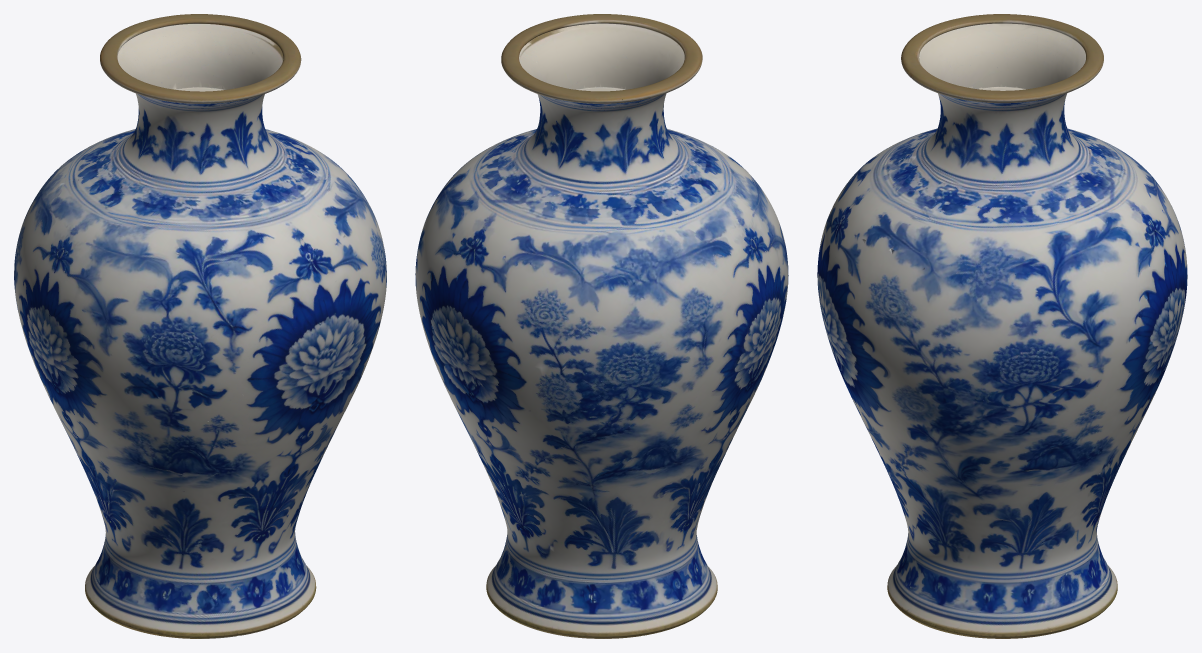
The model's file is hero.glb.
The picture shows the model from 3 angles, left to right: view 1: azimuth 30°, elevation 25°; view 2: azimuth 150°, elevation 25°; view 3: azimuth 270°, elevation 25°; orthographic projection.
Parts seen in each view (by area): view 1: node_0; view 2: node_0; view 3: node_0.
Part boxes in pixels (x1,y1,x2,y2): node_0: [14, 14, 386, 638]; node_0: [415, 14, 788, 638]; node_0: [817, 14, 1187, 638].
Size of the model in its own units: 0.705 by 1.13 by 0.7021.
Materials: 1 (1 with a texture image).
